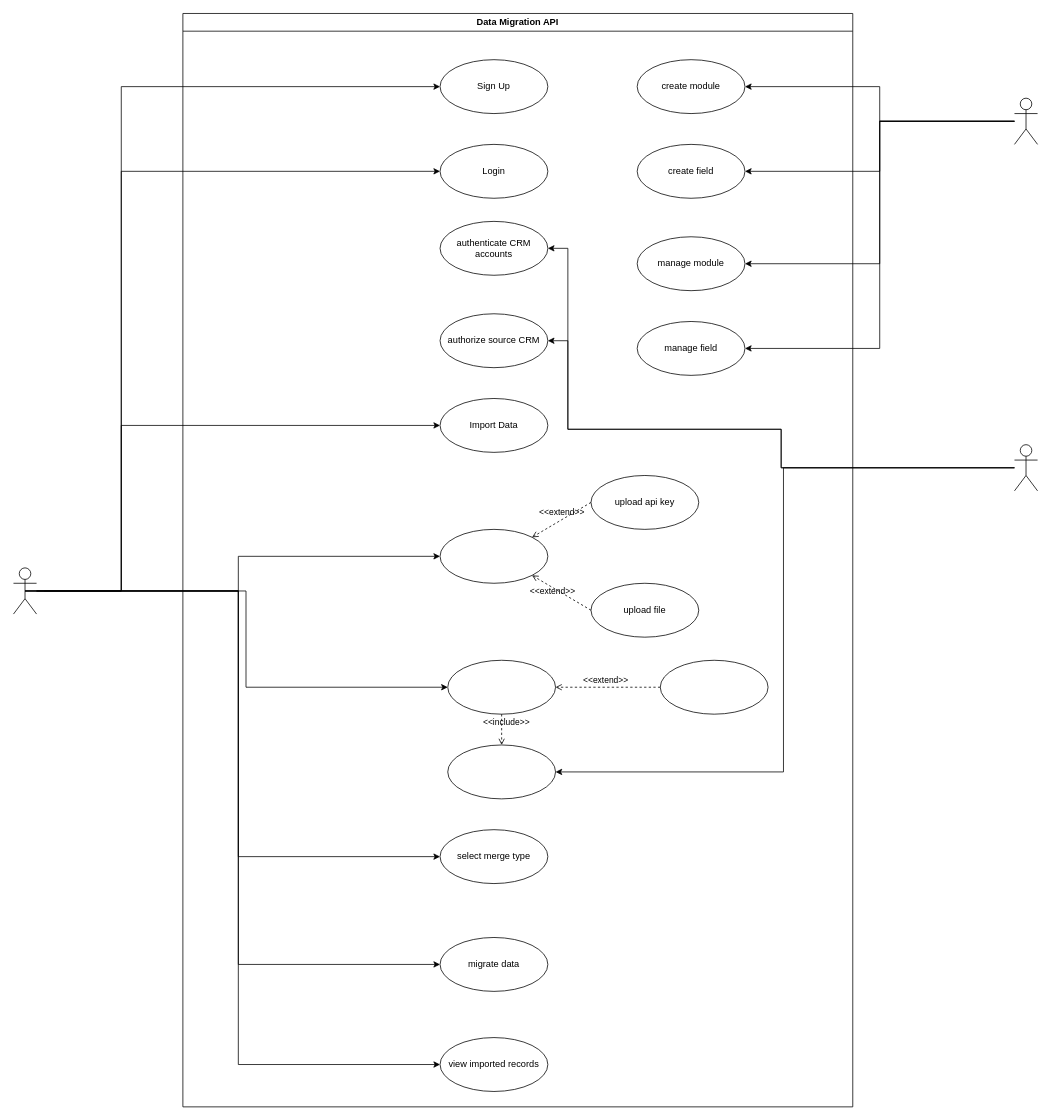
Some shapes in this 1053 by 1120 pixel diagram are drawn without their labels. Each missing label, with the centre of its shape:
Admin: pixel 1026 120
API: pixel 1026 467
create custom fields: pixel 714 687
map fields: pixel 501 687
Select import method: pixel 493 556
User: pixel 25 590
validate mapping: pixel 501 771
